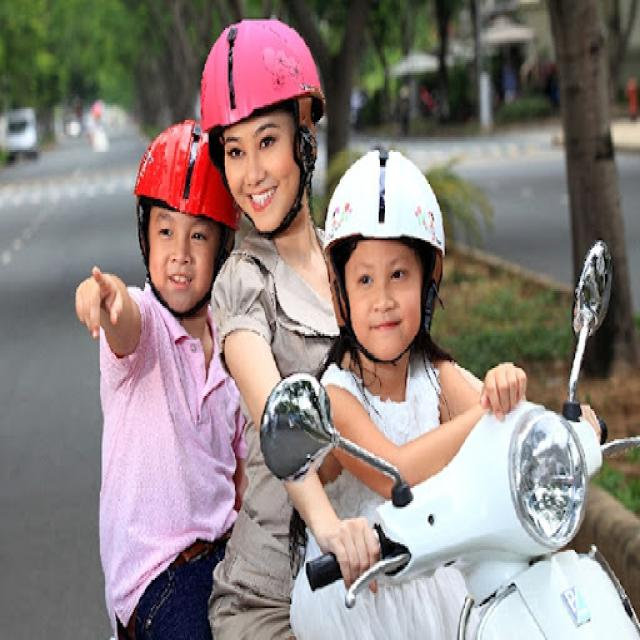helmet: (200, 17, 332, 132), (324, 146, 447, 258)
